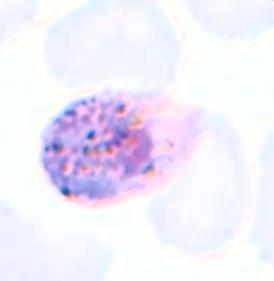Infected: (41, 89, 208, 206)
Uninfected: (148, 110, 245, 253), (44, 4, 180, 99)
